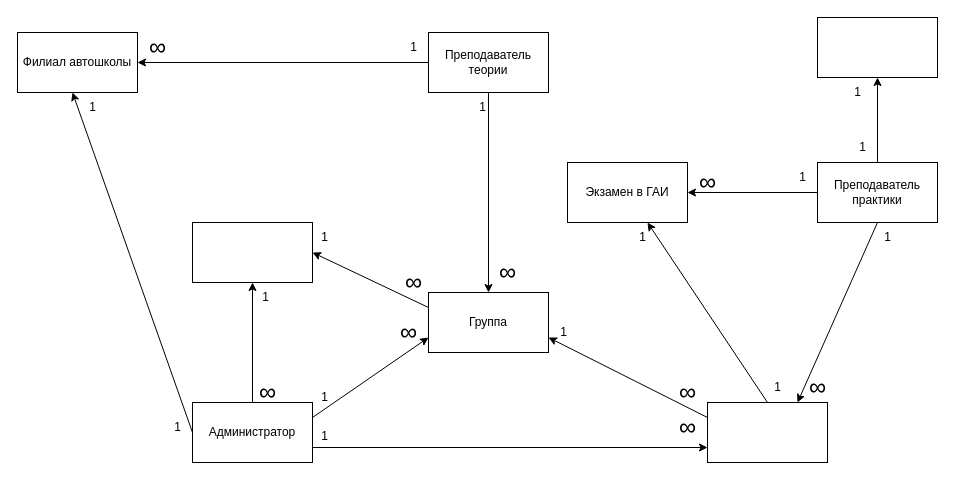
Image size: 955x480. Some labels were removed from this diagram. Each missing label, with the centre of its shape:
"Расписание занятий" belongs at point 252,252.
"Транспортное средство" belongs at point 877,47.
"Ученик" belongs at point 767,432.
